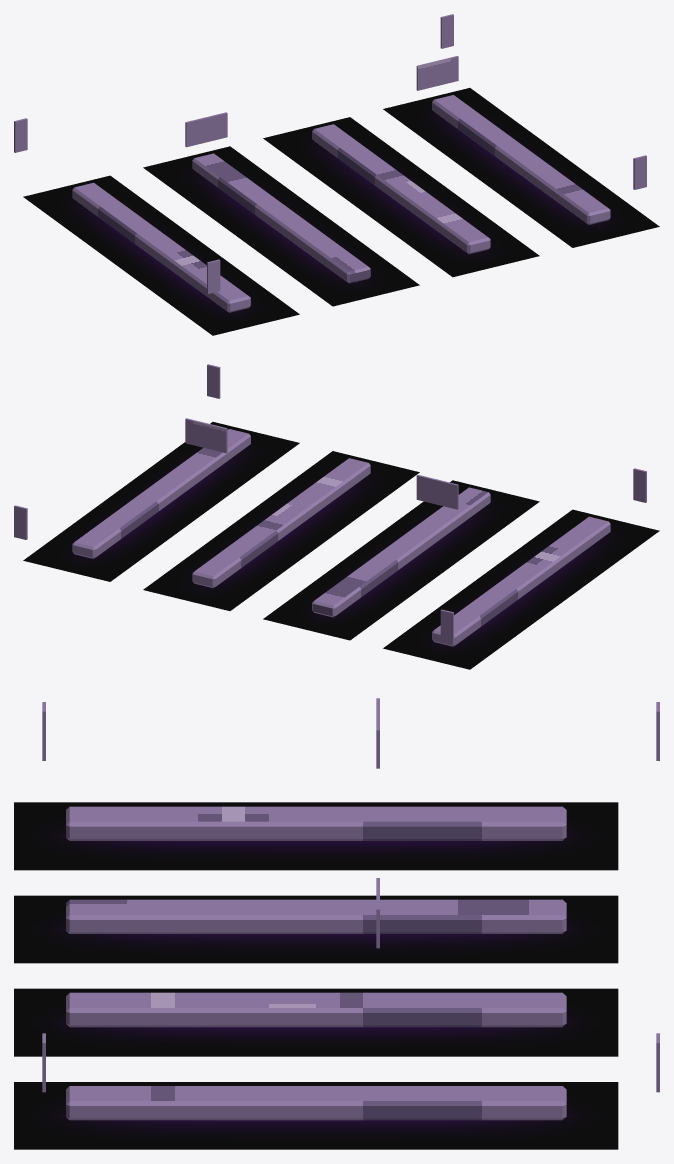
Rendered from placed_uv_panel_4_lit_emission.obj.
3 views of the same model, one above another, from view 1: azimuth 30°, elevation 25°; view 2: azimuth 150°, elevation 25°; view 3: azimuth 270°, elevation 25° (orthographic). The views are drawn at different scales.
Visible parts, largest first — view 1: model; view 2: model; view 3: model.
Part boxes in pixels (<box>): model: <box>14,14,659,335</box>; model: <box>14,364,659,669</box>; model: <box>14,698,659,1149</box>.
Bounding box in the file's own units: 1.09 × 0.2513 × 0.855.
